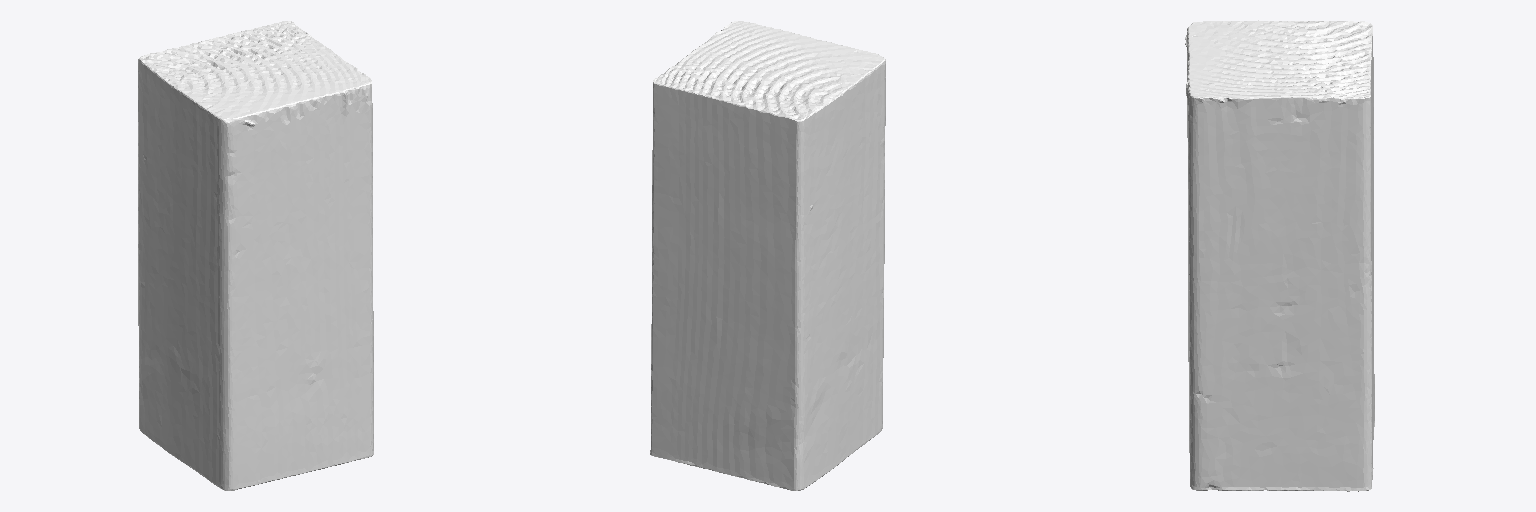
The robot description file, URDF, robot "extra_large_clamp":
<robot name="extra_large_clamp">
	<link name="base_link">
		<visual>
			<origin xyz="0.029549933960517274 0.03660538138997692 -0.018078943770709878" rpy="0.0 0.0 0.0" />
			<geometry>
				<mesh filename="052_extra_large_clamp/google_16k/textured.obj" scale="1 1 1" />
			</geometry>
			<material name="texture">
				<color rgba="1.0 1.0 1.0 1.0" />
			</material>
		</visual>
		<collision>
			<origin xyz="0.029549933960517274 0.03660538138997692 -0.018078943770709878" rpy="0.0 0.0 0.0" />
			<geometry>
				<mesh filename="052_extra_large_clamp/google_16k/textured_vhacd.obj" scale="1 1 1" />
			</geometry>
		</collision>
		<inertial>
			<mass value="0.202" />
			<inertia ixx="1e-3" ixy="0.0" ixz="0.0" iyy="1e-3" iyz="0.0" izz="1e-3" />
		</inertial>
	</link>
</robot>

--- Render facts (derived) ---
The picture shows the robot from 3 angles, left to right: view 1: azimuth 30°, elevation 25°; view 2: azimuth 150°, elevation 25°; view 3: azimuth 270°, elevation 25°; orthographic projection.
Model extra_large_clamp with 1 links and 0 joints (none), rooted at base_link, posed every joint at zero.
Visible links, largest first — view 1: base_link; view 2: base_link; view 3: base_link.
Boxes of the visible links, x1,y1,x2,y2 form: base_link: (138, 21, 373, 490); base_link: (650, 21, 885, 490); base_link: (1185, 20, 1374, 491).
Size in the robot's own frame: 0.0906 by 0.0899 by 0.206 metres.
Meshes: 1 distinct files referenced, 1 mesh visuals loaded (1 OBJ).